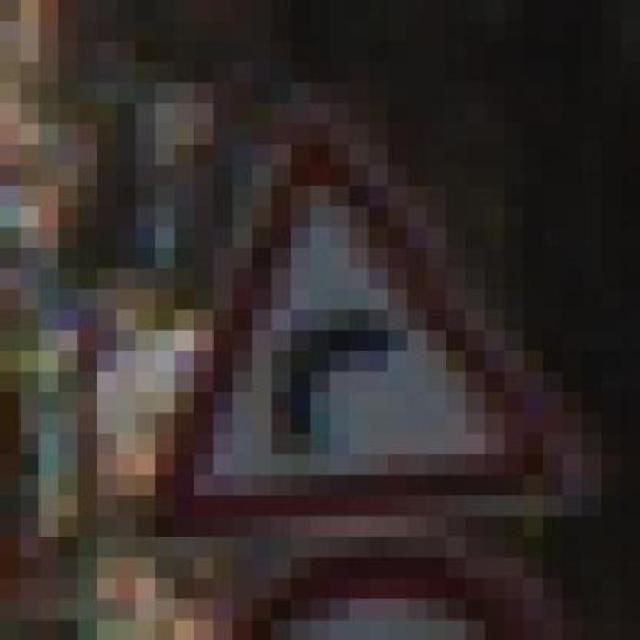Dangerous Rright Curve Ahead: (78, 103, 562, 557)
